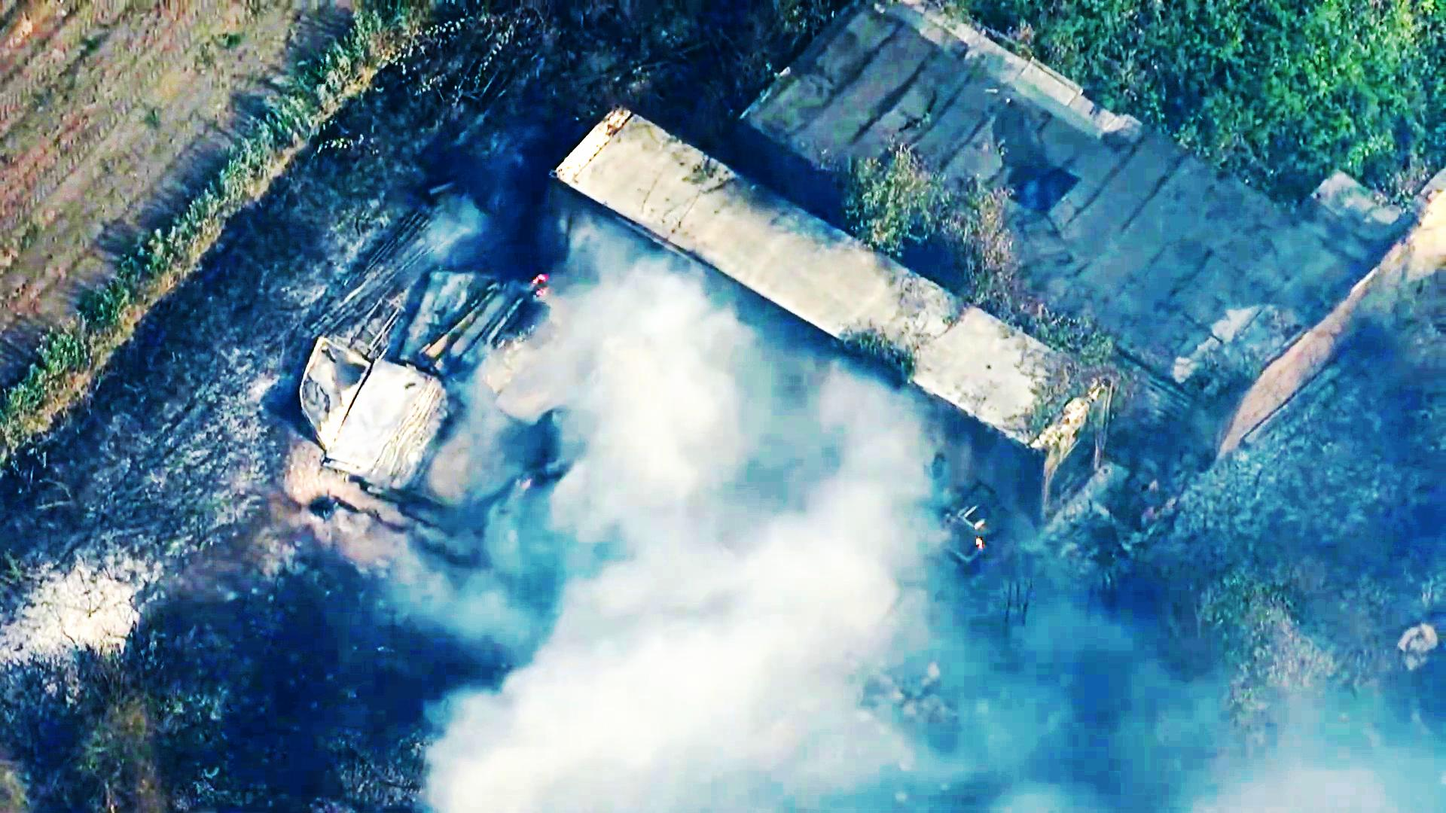smoke: (502, 520, 855, 771), (565, 283, 728, 478)
